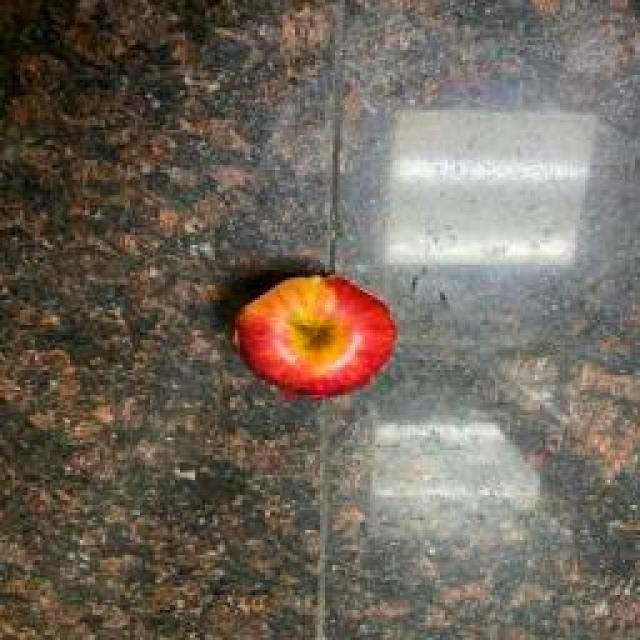Apple: (235, 278, 396, 397)
